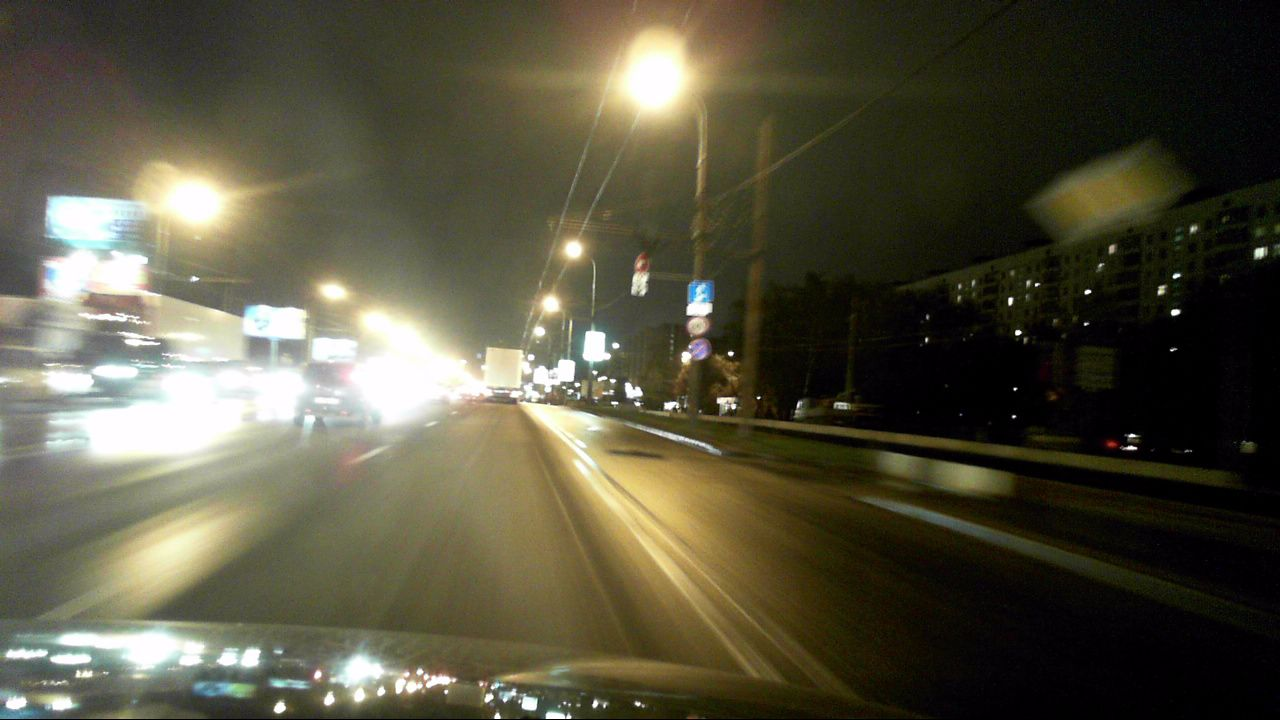No Parking: (688, 337, 711, 359)
